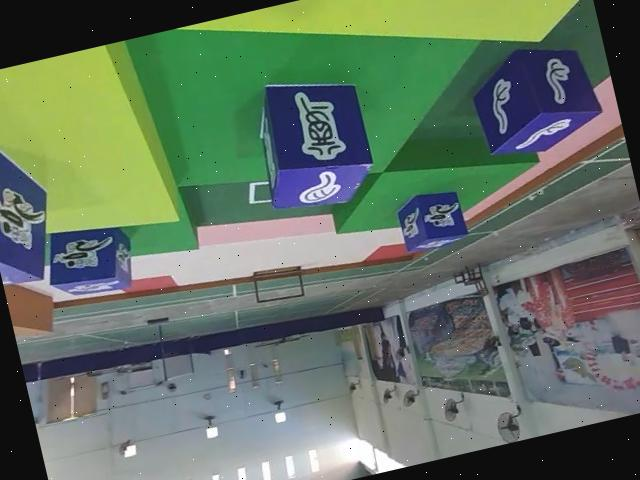R1 Blue: (0, 116, 62, 289), (34, 214, 139, 305), (390, 185, 468, 257)
R2 Fake Blue: (240, 65, 377, 220)
R2 Real Blue: (462, 32, 607, 163)
